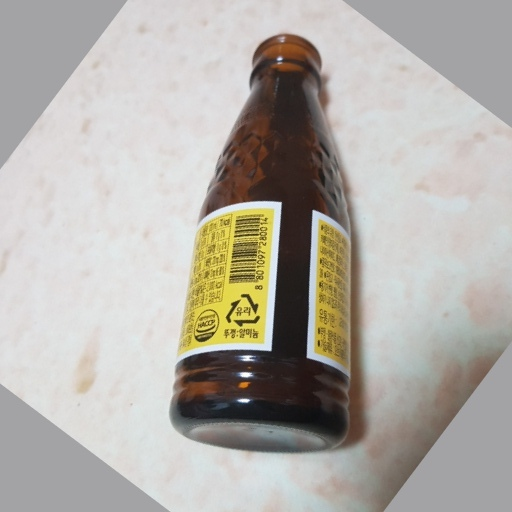Glass_3: (168, 34, 360, 457)
